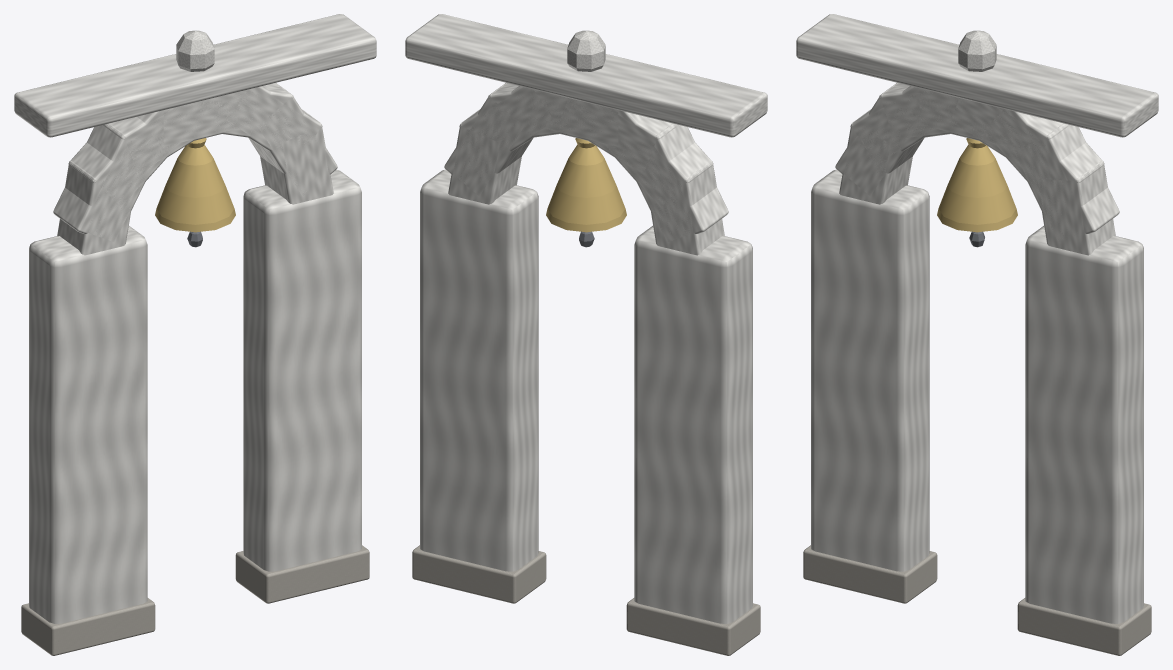
File: greek-island-village-and-harbour-bell-wall-with-bell-f5bf5f78.glb
3 views of the same model, side by side, from view 1: azimuth 30°, elevation 25°; view 2: azimuth 150°, elevation 25°; view 3: azimuth 330°, elevation 25° (orthographic).
Parts seen in each view (by area): view 1: bell-wall-with-bell, bell/brass; view 2: bell-wall-with-bell, bell/brass; view 3: bell-wall-with-bell, bell/brass.
Part boxes in pixels (x1,y1,x2,y2): bell-wall-with-bell: (14, 14, 376, 655); bell/brass: (155, 138, 235, 232); bell-wall-with-bell: (405, 14, 767, 655); bell/brass: (546, 138, 626, 232); bell-wall-with-bell: (796, 14, 1158, 655); bell/brass: (937, 138, 1017, 232).
Size of the model in its own units: 2.54 by 4.23 by 0.54.
Materials: 4 (2 with a texture image).
